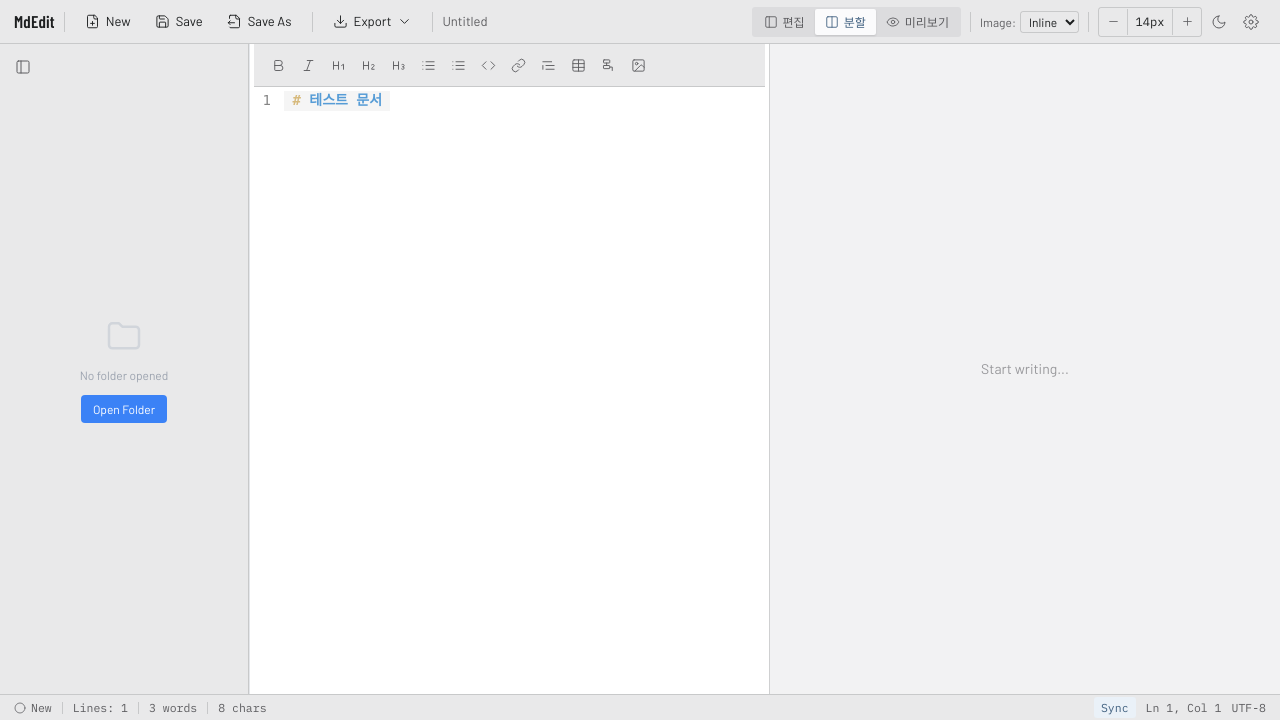
it: SPEC-EXPORT-002: 내보내기 완료 모달 › AC-002: DOCX 내보내기 성공 시 완료 모달이 표시된다
Click the button "Export" at (372,22), box [322, 6, 423, 36]
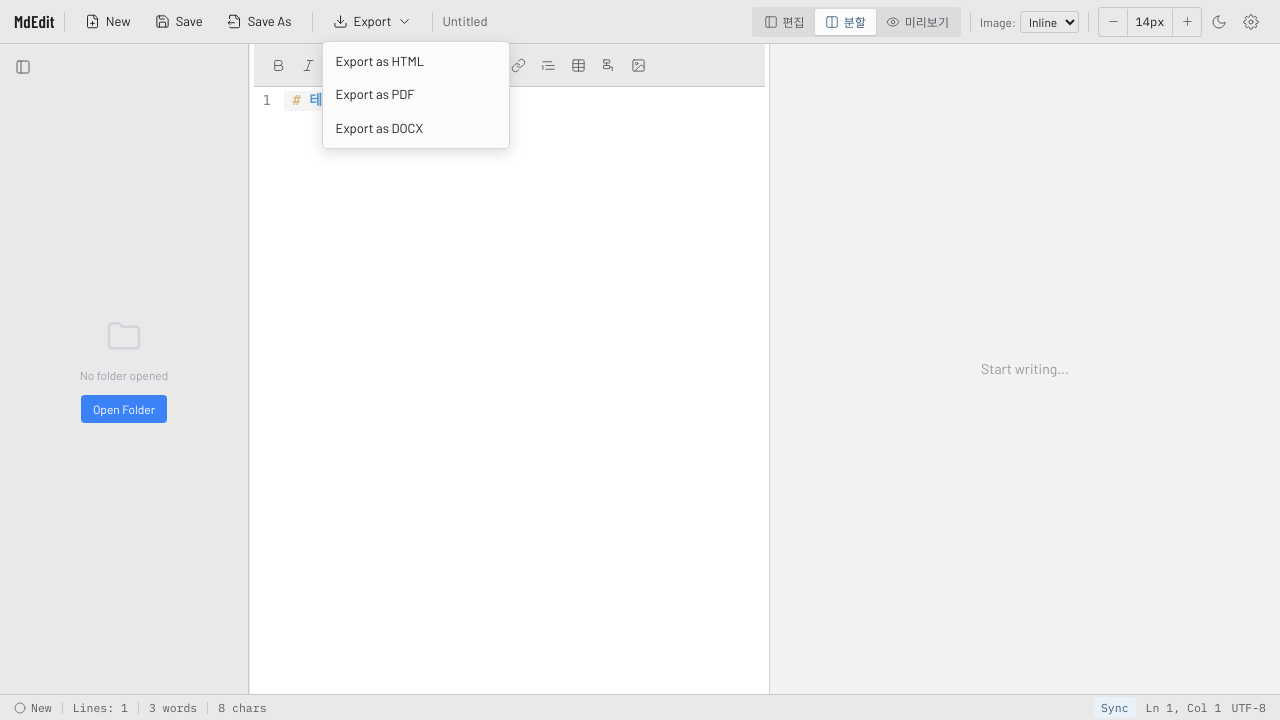
Click the menu item "Export as DOCX" at (416,128), box [326, 112, 506, 145]
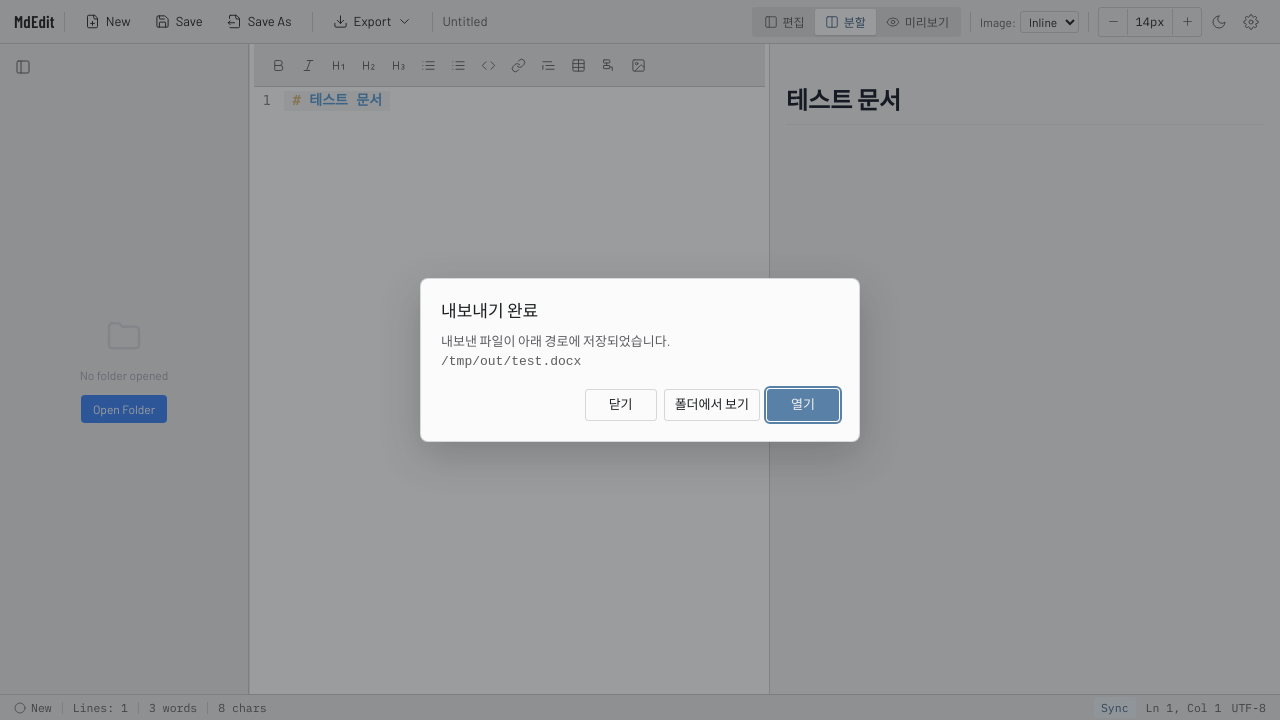
Expected: the heading "내보내기 완료" is shown, [441, 300, 538, 320]
Expected: the text "/tmp/out/test.docx" is shown, [441, 354, 581, 369]
